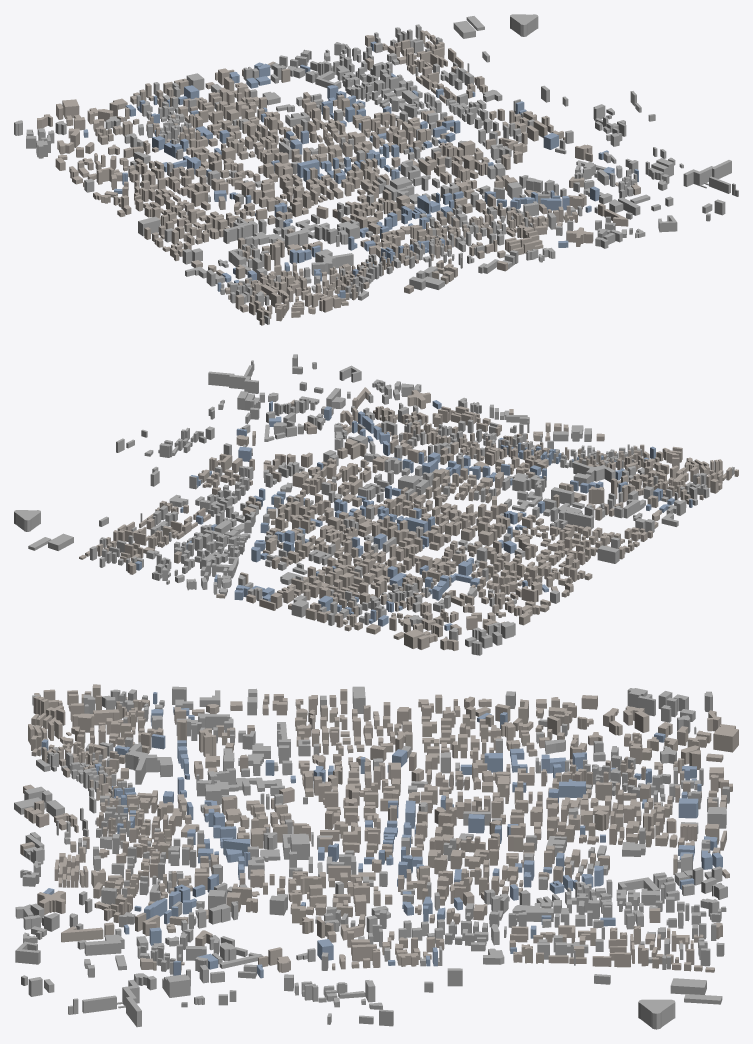
The model's file is buildings.glb.
3 views of the same model, one above another, from view 1: azimuth 30°, elevation 25°; view 2: azimuth 150°, elevation 25°; view 3: azimuth 270°, elevation 25° (orthographic). The views are drawn at different scales.
Visible parts, largest first — view 1: b790255092, b255362025, b107303403; view 2: b790255092, b255362025, b107303403; view 3: b107303403, b255362025, b790255092, b357472312, b1363039654, b1013670600.
Boxes of the visible parts, x1,y1,x2,y2 form: b790255092: [683, 160, 731, 186]; b255362025: [311, 253, 353, 275]; b107303403: [510, 14, 538, 36]; b790255092: [208, 371, 258, 393]; b255362025: [573, 461, 615, 482]; b107303403: [14, 510, 40, 531]; b107303403: [638, 999, 675, 1029]; b255362025: [125, 743, 157, 784]; b790255092: [122, 979, 141, 1027]; b357472312: [713, 726, 738, 752]; b1363039654: [670, 978, 706, 994]; b1013670600: [37, 890, 65, 915].
Bounding box in the file's own units: 1738 × 64 × 1601.
